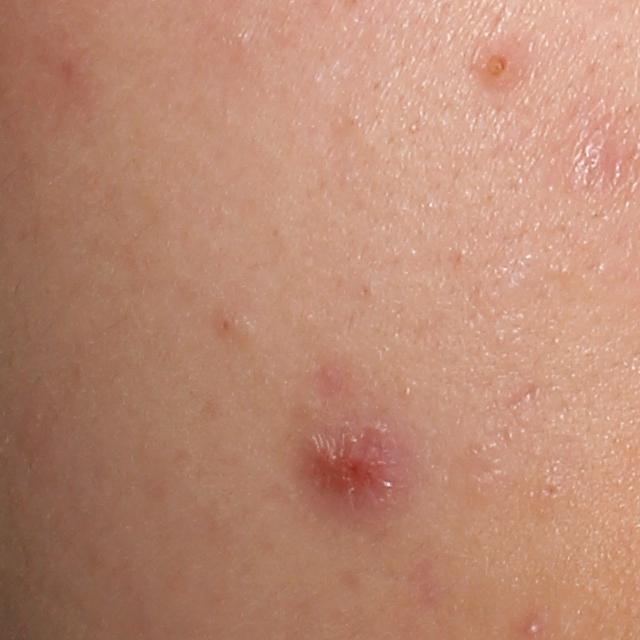papule: (291, 415, 409, 507), (474, 42, 525, 87), (521, 621, 542, 639)
